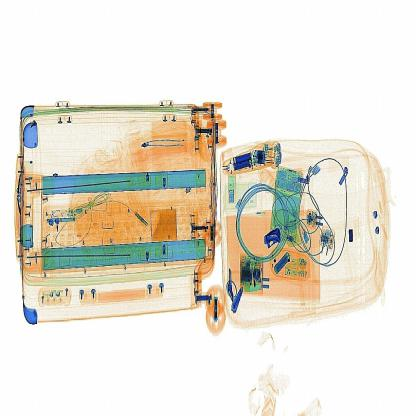knife: (261, 222, 291, 250)
